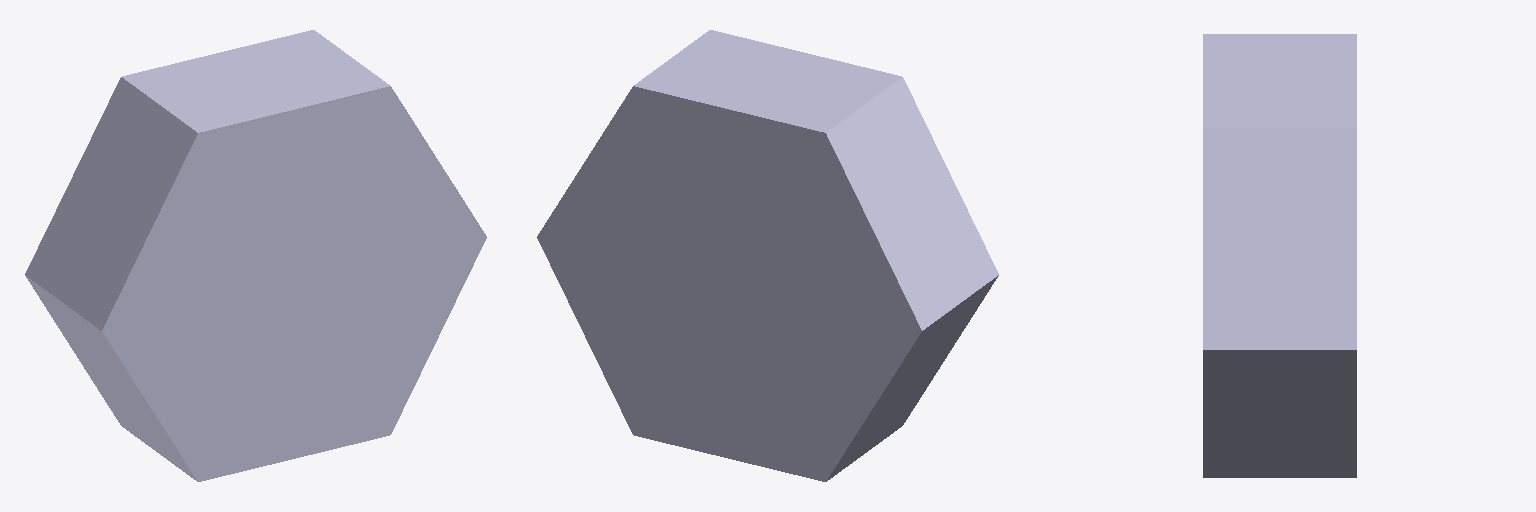
File: chrysoberyl-trilling.obj
3 views of the same model, side by side, from view 1: azimuth 30°, elevation 25°; view 2: azimuth 150°, elevation 25°; view 3: azimuth 270°, elevation 25° (orthographic).
Size of the model in its own units: 1.15 by 1 by 0.4.